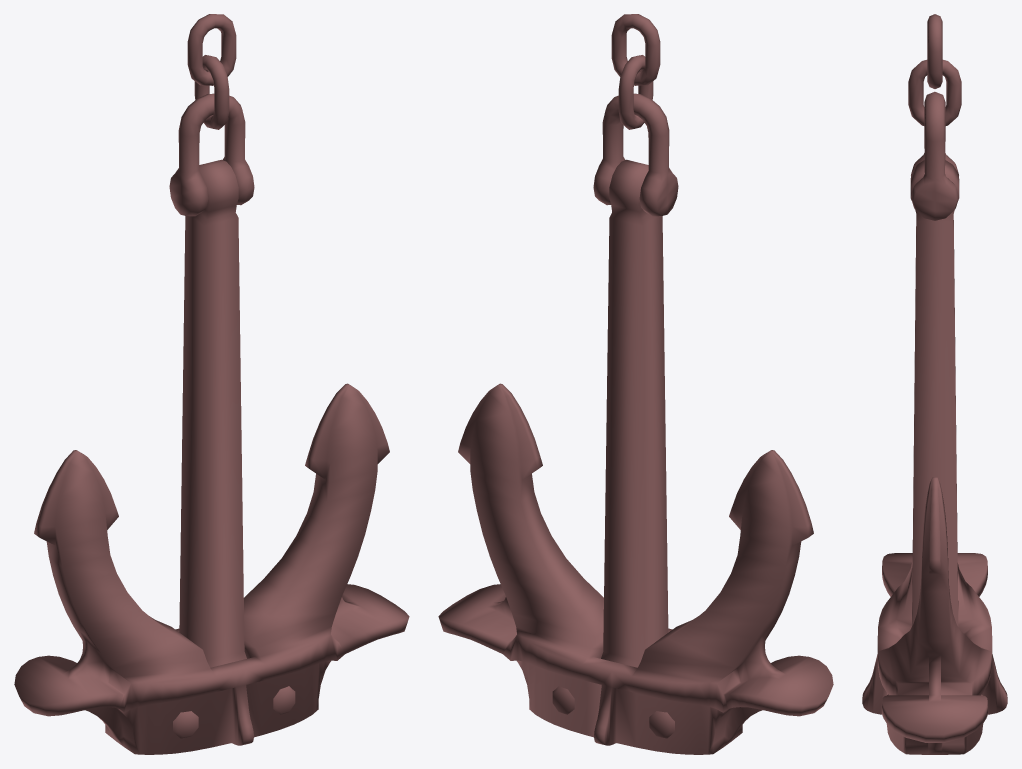
Rendered from SM_PROP_hall_anchor.fbx.
The picture shows the model from 3 angles, left to right: view 1: azimuth 30°, elevation 25°; view 2: azimuth 150°, elevation 25°; view 3: azimuth 270°, elevation 25°; orthographic projection.
Parts seen in each view (by area): view 1: Hall_acnhor, Hall_acnhor.balk, Hall_acnhor.handle, Hall_acnhor.chain.02, Hall_acnhor.chain.01; view 2: Hall_acnhor, Hall_acnhor.balk, Hall_acnhor.handle, Hall_acnhor.chain.02, Hall_acnhor.chain.01; view 3: Hall_acnhor, Hall_acnhor.balk, Hall_acnhor.handle, Hall_acnhor.chain.01, Hall_acnhor.chain.02.
Boxes of the visible parts, left/top/right/bottom form: Hall_acnhor: left=14, top=383, right=409, bottom=754; Hall_acnhor.balk: left=179, top=159, right=246, bottom=667; Hall_acnhor.handle: left=169, top=93, right=254, bottom=216; Hall_acnhor.chain.02: left=187, top=14, right=236, bottom=85; Hall_acnhor.chain.01: left=194, top=55, right=229, bottom=129; Hall_acnhor: left=438, top=383, right=833, bottom=754; Hall_acnhor.balk: left=601, top=159, right=668, bottom=667; Hall_acnhor.handle: left=593, top=93, right=678, bottom=216; Hall_acnhor.chain.02: left=611, top=14, right=660, bottom=85; Hall_acnhor.chain.01: left=618, top=55, right=653, bottom=129; Hall_acnhor: left=862, top=477, right=1007, bottom=754; Hall_acnhor.balk: left=910, top=160, right=959, bottom=626; Hall_acnhor.handle: left=911, top=91, right=958, bottom=220; Hall_acnhor.chain.01: left=908, top=60, right=961, bottom=125; Hall_acnhor.chain.02: left=927, top=14, right=942, bottom=88.
Size of the model in its own units: 267 by 482 by 91.06.
